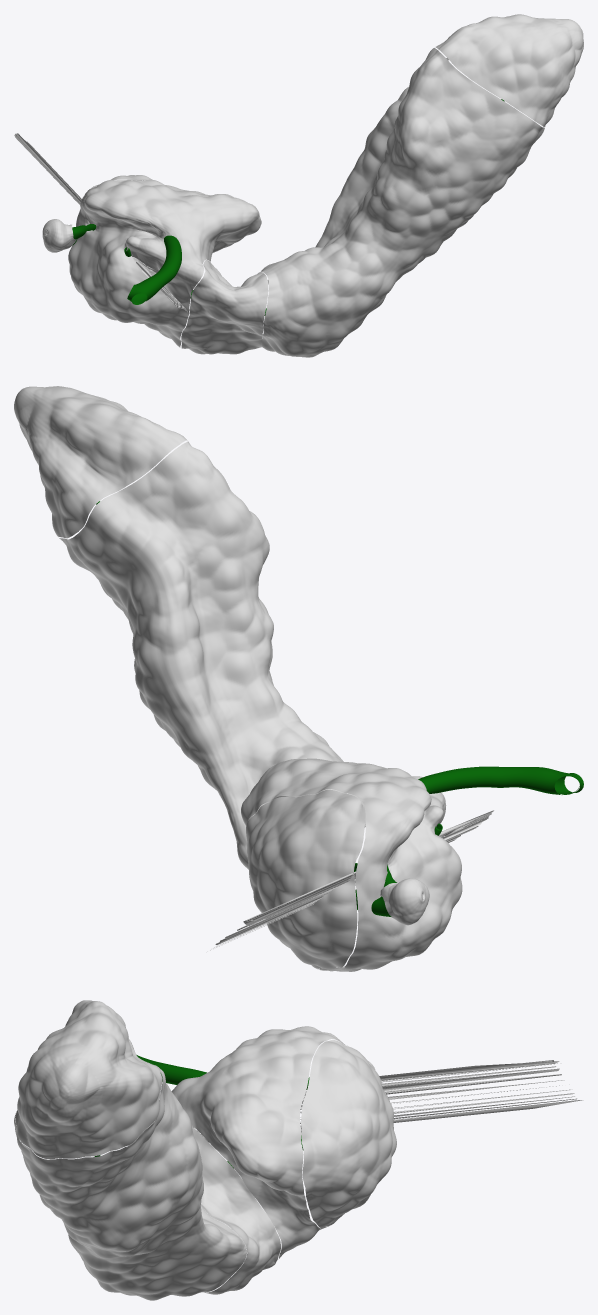
The model's file is pancreas-male.glb.
3 views of the same model, one above another, from view 1: azimuth 30°, elevation 25°; view 2: azimuth 150°, elevation 25°; view 3: azimuth 270°, elevation 25° (orthographic). The views are drawn at different scales.
Parts seen in each view (by area): view 1: VH_M_body_of_pancreas, VH_M_head_of_pancreas, VH_M_tail_of_pancreas, VH_M_neck_of_pancreas, VH_M_common_bile_duct, VH_M_hepatopancreatic_ampulla; view 2: VH_M_body_of_pancreas, VH_M_head_of_pancreas, VH_M_uncinate_process_of_the_pancreas, VH_M_tail_of_pancreas, VH_M_common_bile_duct, VH_M_hepatopancreatic_ampulla; view 3: VH_M_body_of_pancreas, VH_M_head_of_pancreas, VH_M_tail_of_pancreas, VH_M_uncinate_process_of_the_pancreas, VH_M_neck_of_pancreas, VH_M_common_bile_duct.
Boxes of the visible parts, box(x1,y1,x2,y2) form: VH_M_body_of_pancreas: box(261, 48, 544, 357); VH_M_head_of_pancreas: box(14, 133, 261, 347); VH_M_tail_of_pancreas: box(435, 14, 583, 126); VH_M_neck_of_pancreas: box(181, 260, 268, 354); VH_M_common_bile_duct: box(72, 224, 181, 304); VH_M_hepatopancreatic_ampulla: box(42, 219, 76, 252); VH_M_body_of_pancreas: box(59, 441, 346, 869); VH_M_head_of_pancreas: box(207, 758, 493, 971); VH_M_uncinate_process_of_the_pancreas: box(246, 789, 364, 969); VH_M_tail_of_pancreas: box(14, 386, 187, 538); VH_M_common_bile_duct: box(384, 766, 583, 886); VH_M_hepatopancreatic_ampulla: box(380, 878, 429, 925); VH_M_body_of_pancreas: box(14, 1021, 246, 1300); VH_M_head_of_pancreas: box(159, 1026, 583, 1258); VH_M_tail_of_pancreas: box(15, 1000, 162, 1158); VH_M_uncinate_process_of_the_pancreas: box(301, 1039, 396, 1228); VH_M_neck_of_pancreas: box(128, 1120, 280, 1294); VH_M_common_bile_duct: box(136, 1055, 309, 1089).
Size of the model in its own units: 121 by 84.98 by 109.
